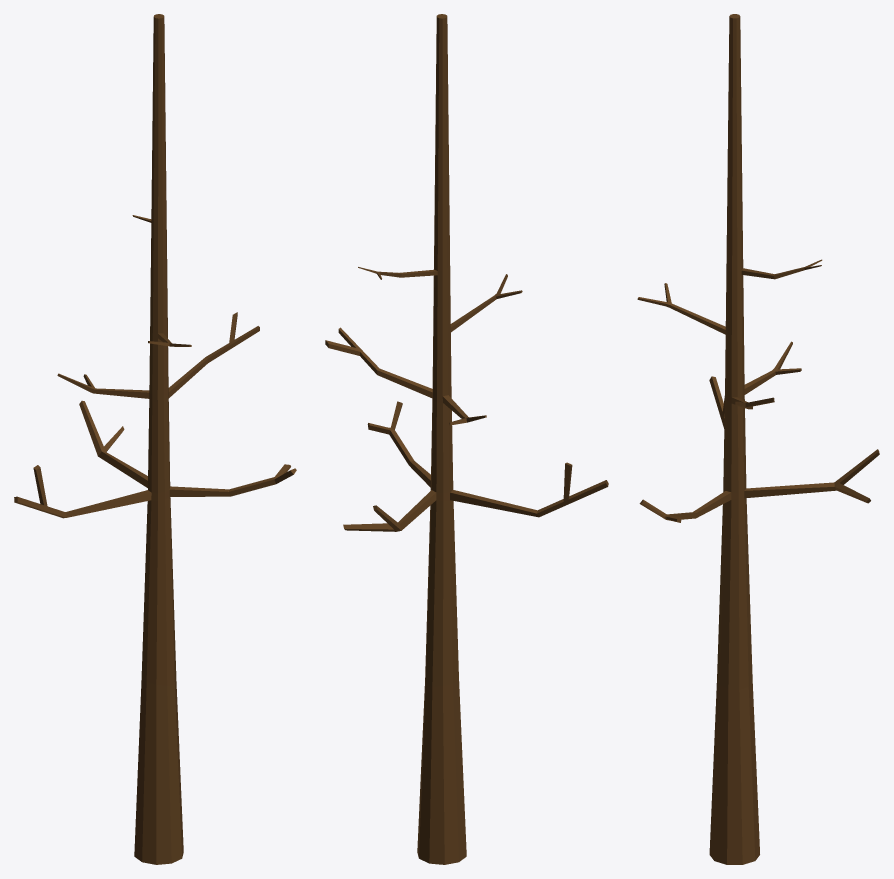
Rendered from Big_Tree (1).fbx.
3 views of the same model, side by side, from view 1: azimuth 30°, elevation 25°; view 2: azimuth 150°, elevation 25°; view 3: azimuth 270°, elevation 25° (orthographic).
Parts seen in each view (by area): view 1: Cylinder; view 2: Cylinder; view 3: Cylinder.
Part boxes in pixels (bbox=[...]): Cylinder: bbox=[14, 14, 296, 864]; Cylinder: bbox=[325, 14, 608, 864]; Cylinder: bbox=[637, 14, 879, 864].
Bounding box in the file's own units: 459 × 1422 × 372.
Materials: 1 (1 with a texture image).
